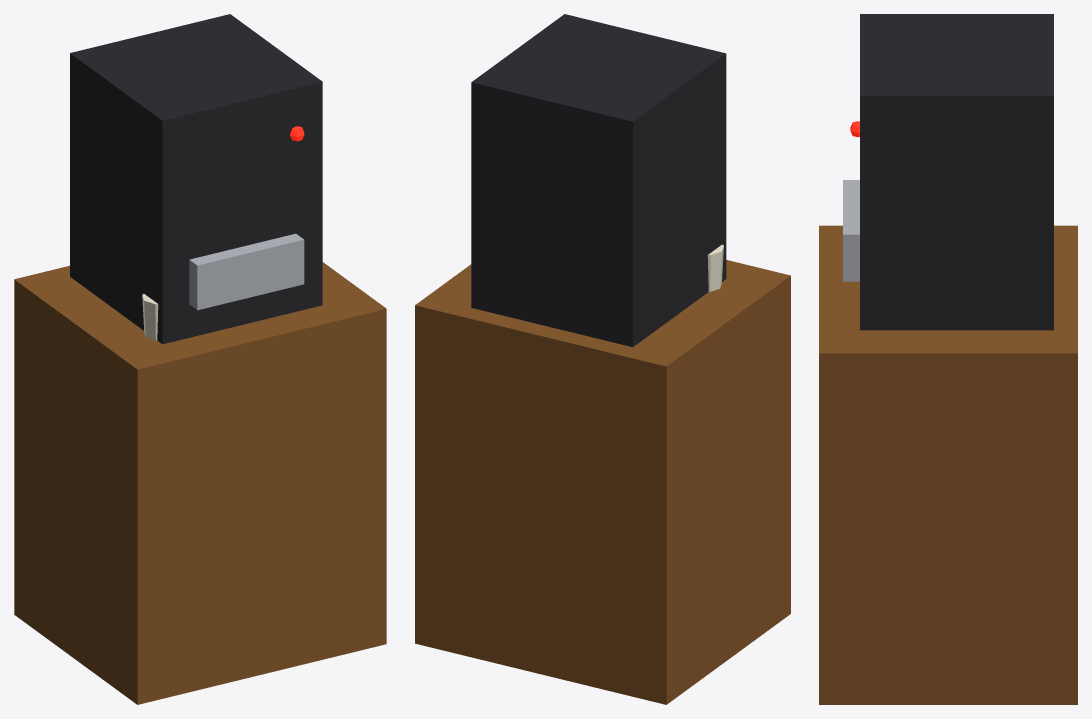
File: station_coffee.glb
3 renders of one model, left to right at view 1: azimuth 30°, elevation 25°; view 2: azimuth 150°, elevation 25°; view 3: azimuth 270°, elevation 25°, orthographic. The views are drawn at different scales.
Parts seen in each view (by area): view 1: cabinet_cabinet, machine_coffee_black, machine_coffee_steel, mug_mug; view 2: cabinet_cabinet, machine_coffee_black, mug_mug; view 3: cabinet_cabinet, machine_coffee_black, machine_coffee_steel.
Boxes of the visible parts, <box> form: cabinet_cabinet: <box>14,262,386,704</box>; machine_coffee_black: <box>70,14,322,344</box>; machine_coffee_steel: <box>189,233,304,310</box>; mug_mug: <box>142,294,158,340</box>; cabinet_cabinet: <box>415,260,790,704</box>; machine_coffee_black: <box>471,14,726,347</box>; mug_mug: <box>707,244,723,291</box>; cabinet_cabinet: <box>819,225,1077,704</box>; machine_coffee_black: <box>860,14,1053,330</box>; machine_coffee_steel: <box>843,180,859,281</box>.
Bounding box in the file's own units: 0.7 × 1.5 × 0.6.
